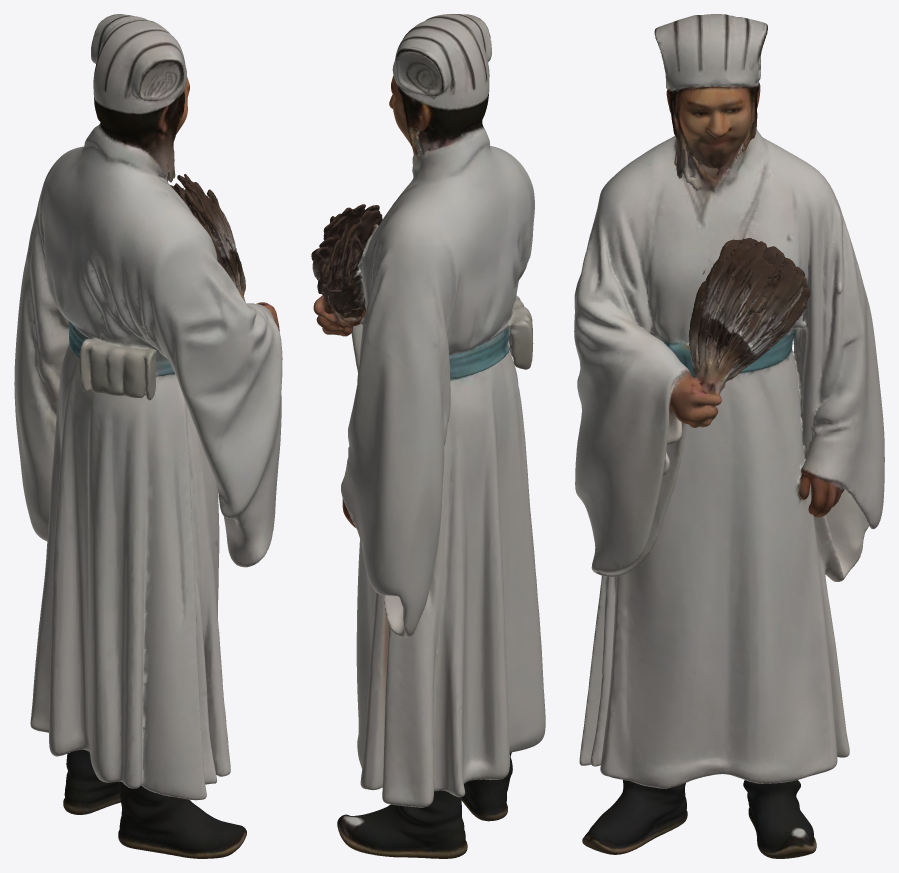
Rendered from zhuge-liang.glb.
The picture shows the model from 3 angles, left to right: view 1: azimuth 30°, elevation 25°; view 2: azimuth 150°, elevation 25°; view 3: azimuth 270°, elevation 25°; orthographic projection. The views are drawn at different scales.
Visible parts, largest first — view 1: tripo_node_6e80929b-d174-4cea-94e7-232b77d6d09e; view 2: tripo_node_6e80929b-d174-4cea-94e7-232b77d6d09e; view 3: tripo_node_6e80929b-d174-4cea-94e7-232b77d6d09e.
Part boxes in pixels (x1=…): tripo_node_6e80929b-d174-4cea-94e7-232b77d6d09e: x1=14, y1=14, x2=282, y2=858; tripo_node_6e80929b-d174-4cea-94e7-232b77d6d09e: x1=311, y1=14, x2=545, y2=858; tripo_node_6e80929b-d174-4cea-94e7-232b77d6d09e: x1=574, y1=14, x2=884, y2=858.
Size of the model in its own units: 0.2713 by 0.9999 by 0.345.
1 material, 1 textured.
